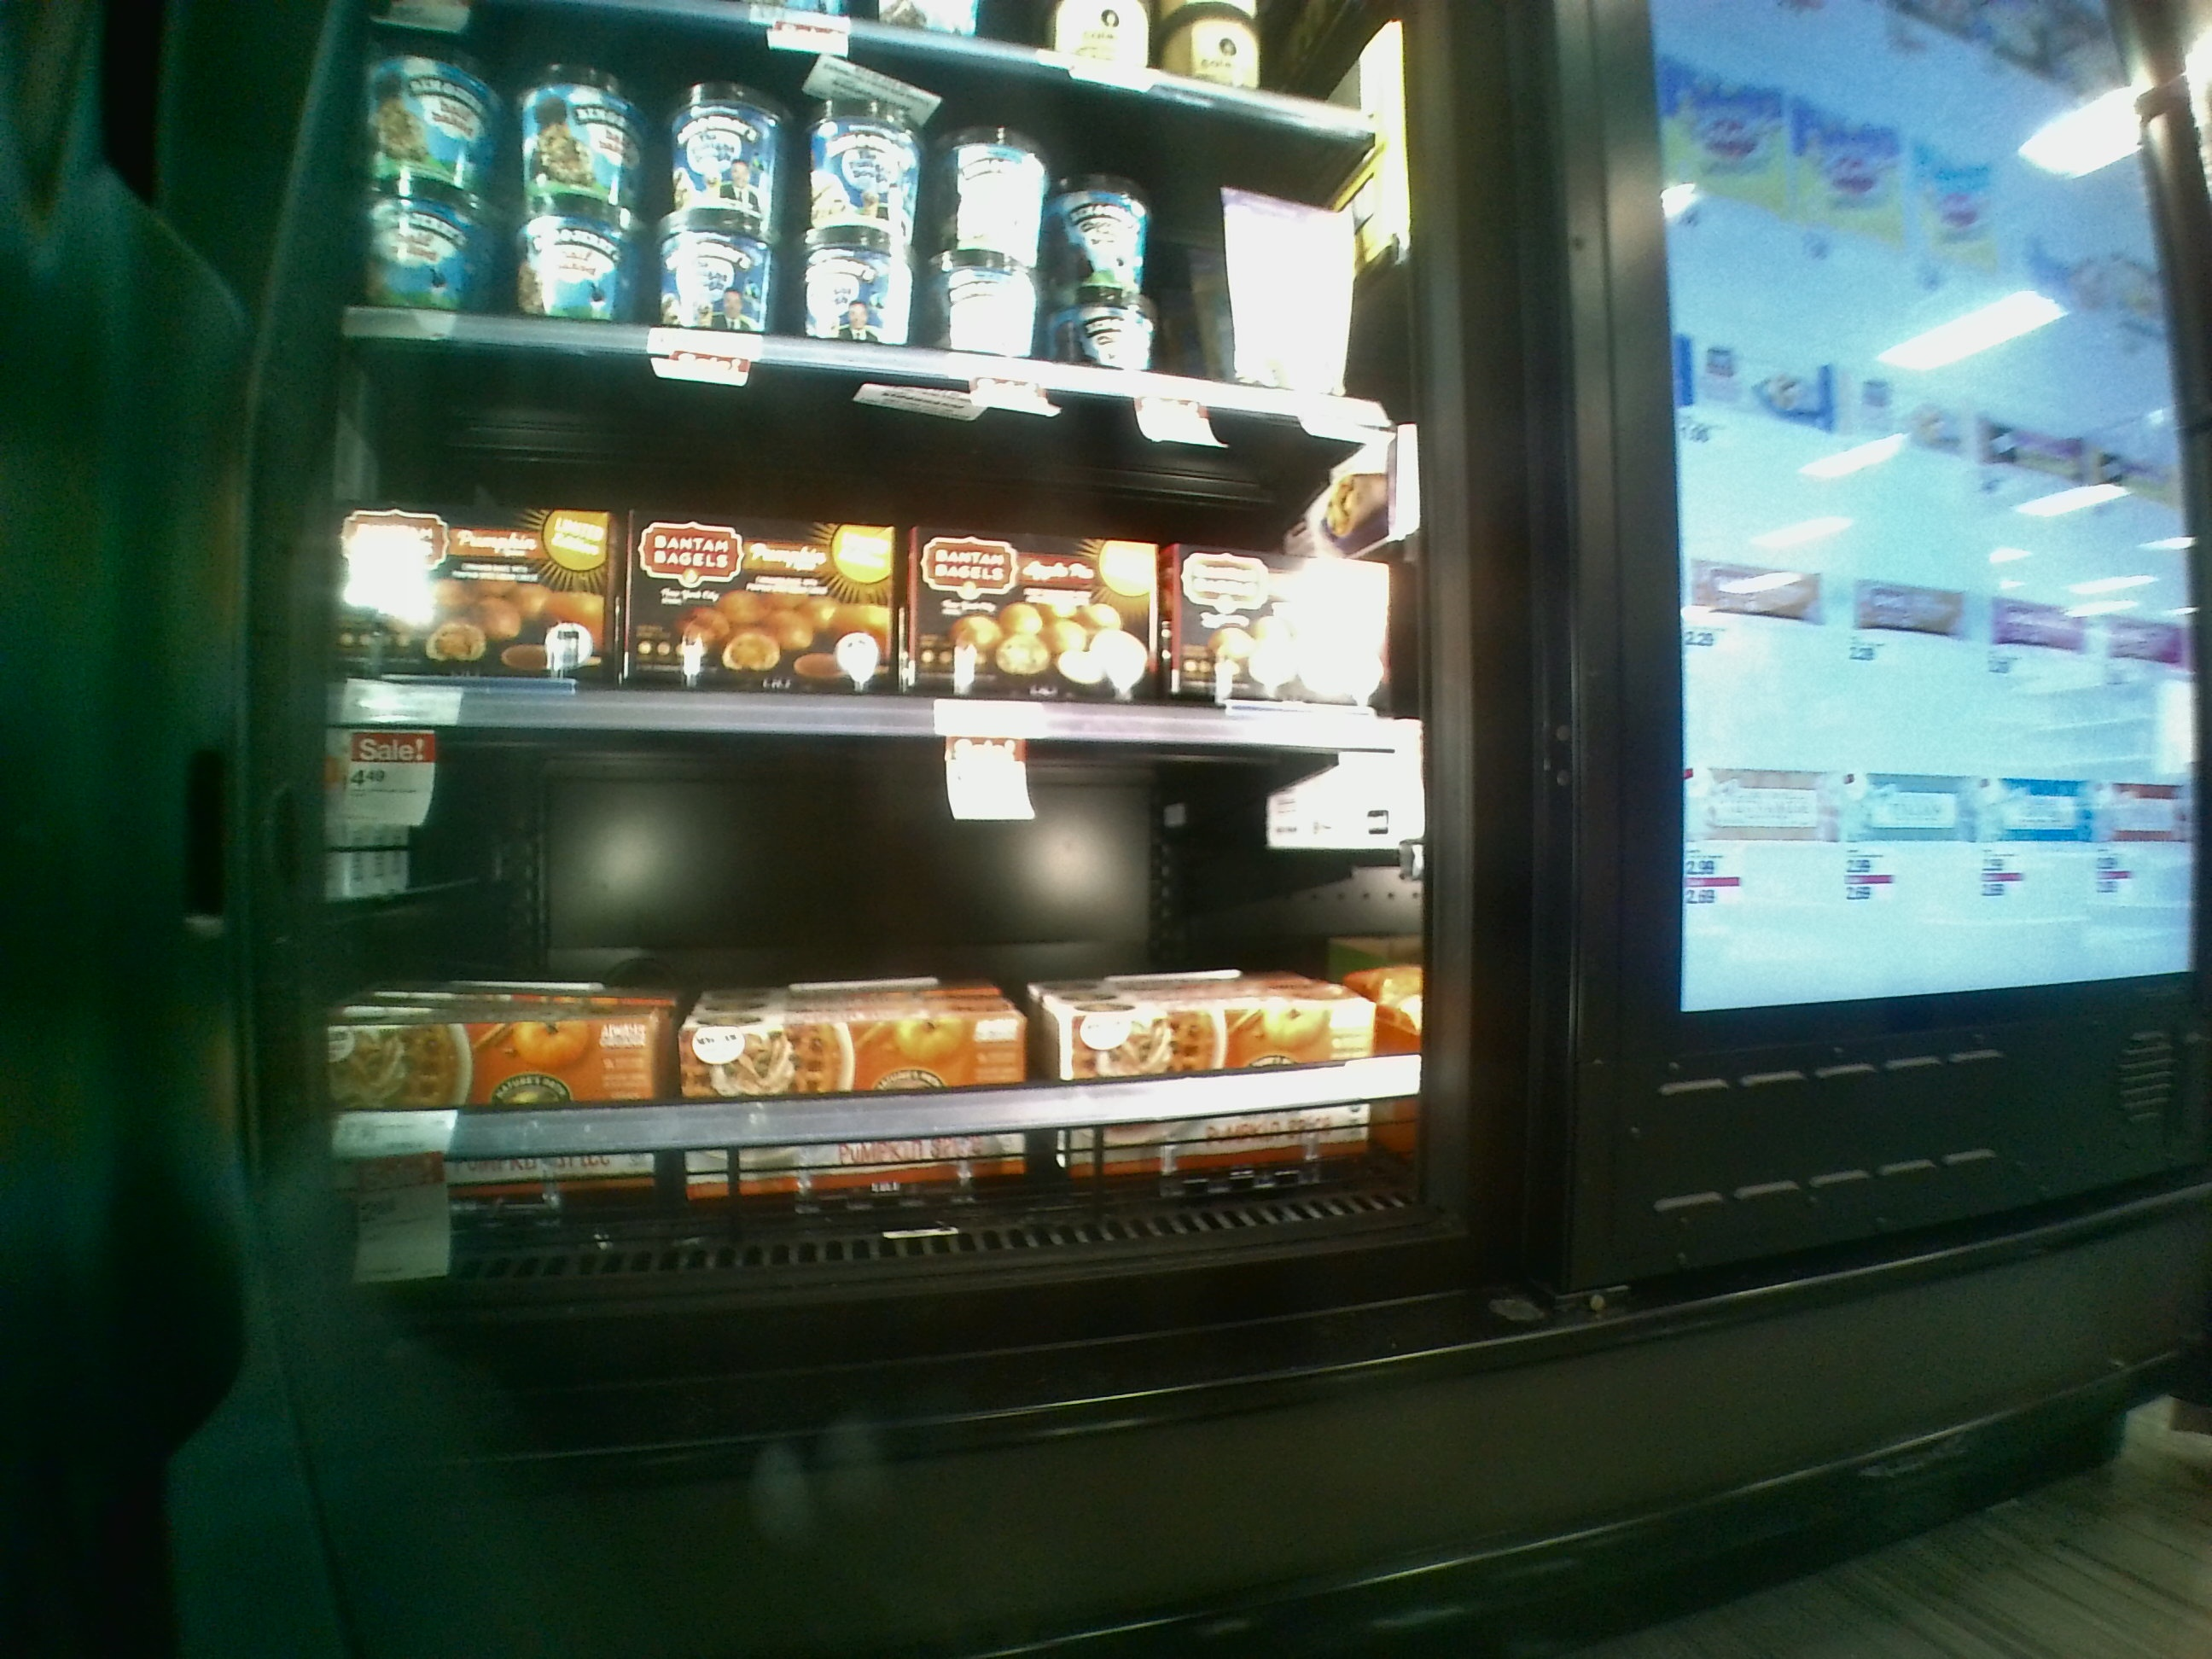shelf: (307, 713, 1423, 1265), (327, 338, 1421, 755)
